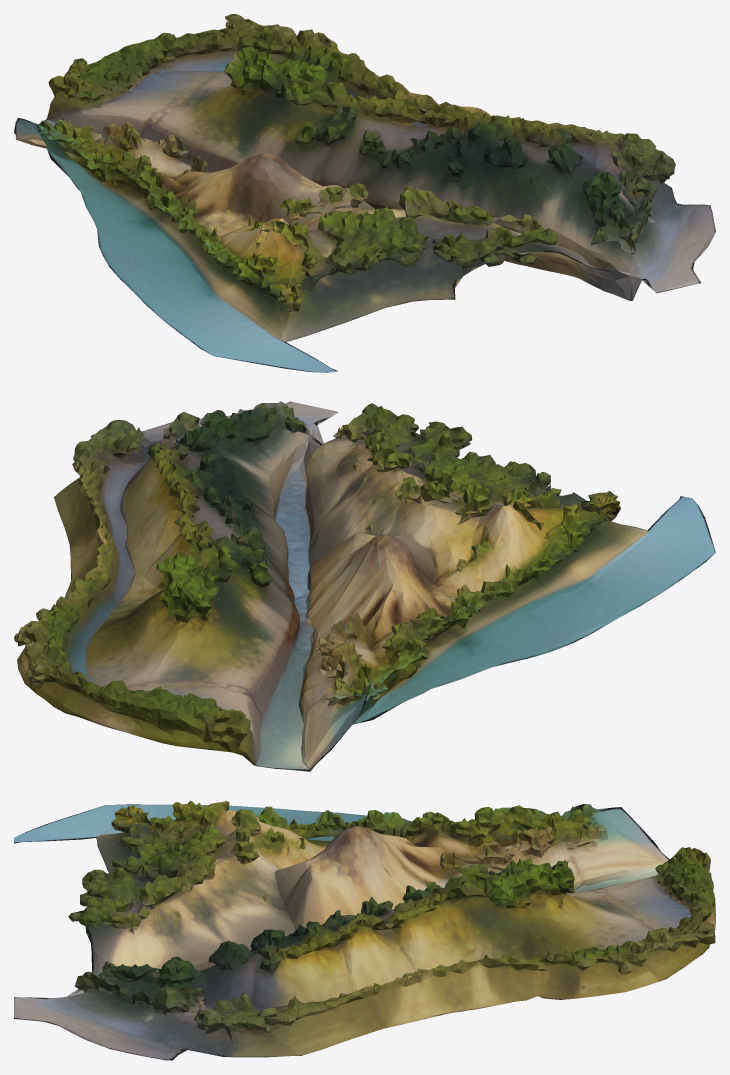
Rendered from mountain.glb.
3 renders of one model, top to bottom at view 1: azimuth 30°, elevation 25°; view 2: azimuth 150°, elevation 25°; view 3: azimuth 270°, elevation 25°, orthographic. The views are drawn at different scales.
Visible parts, largest first — view 1: world; view 2: world; view 3: world.
Part boxes in pixels (box(x1,y1,x2,y2)): world: box(14, 14, 715, 372); world: box(14, 401, 715, 771); world: box(14, 800, 715, 1060).
Bounding box in the file's own units: 0.8607 × 0.154 × 1.
1 material, 1 textured.
